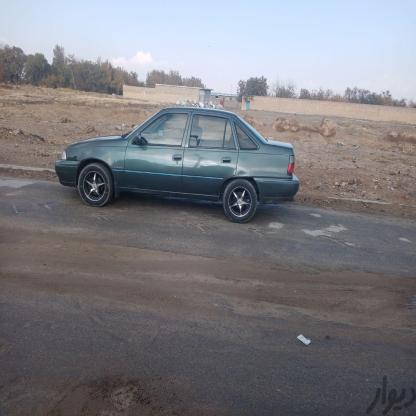Car: (48, 111, 301, 223)
